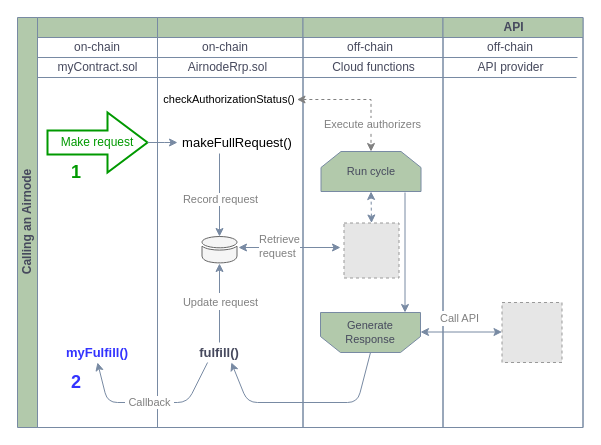
This 601x445 diagram has some shape labels left out. Grey dashed boxes stand in for pictures. The box of each missing label's shape, as (x1, y1, x2, y2) in pixels:
Airnode: (302, 16, 443, 428)
Protocol: (156, 16, 303, 428)
Requester: (36, 16, 158, 428)
